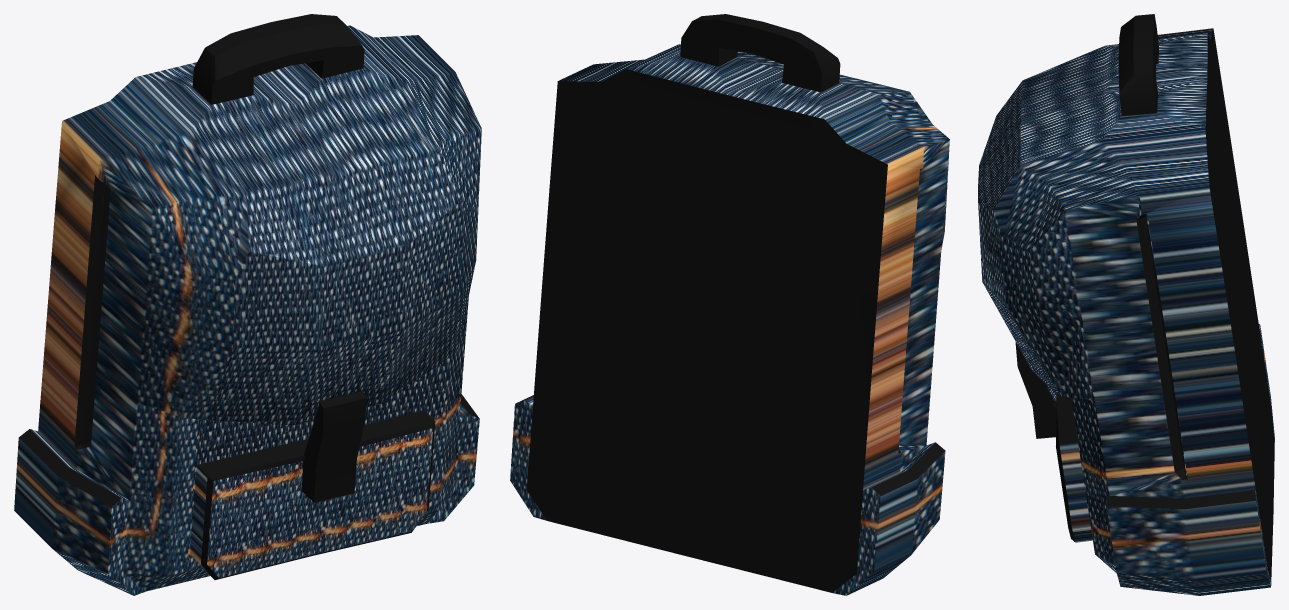
File: BACKPACK03.FBX
3 renders of one model, left to right at view 1: azimuth 30°, elevation 25°; view 2: azimuth 150°, elevation 25°; view 3: azimuth 270°, elevation 25°, orthographic. The views are drawn at different scales.
Visible parts, largest first — view 1: Box001; view 2: Box001; view 3: Box001.
Part boxes in pixels (x1,y1,x2,y2): Box001: (14,14,481,595); Box001: (510,14,949,595); Box001: (978,14,1274,595).
Bounding box in the file's own units: 199 × 256 × 141.
Materials: 2 (1 with a texture image).
